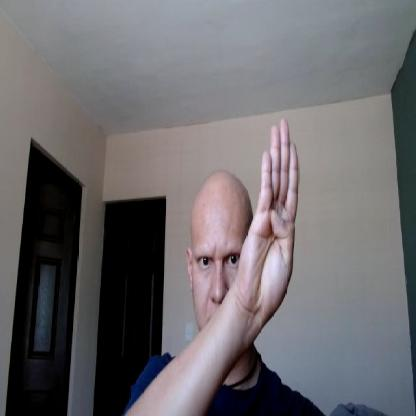B: (240, 117, 298, 314)
